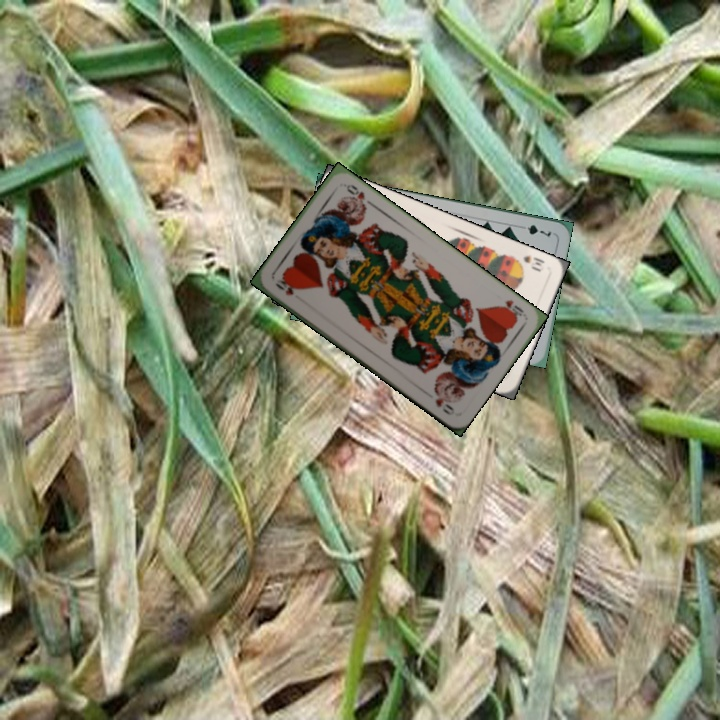G7: (515, 220, 554, 239)
HO: (496, 295, 528, 323), (271, 275, 298, 298)
S10: (509, 251, 547, 274)
